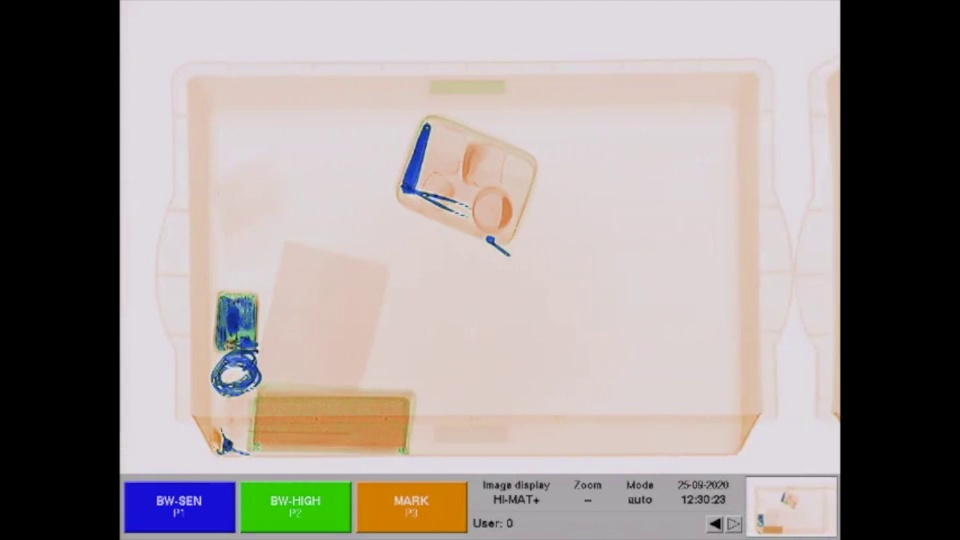tray_img: (149, 50, 797, 467)
